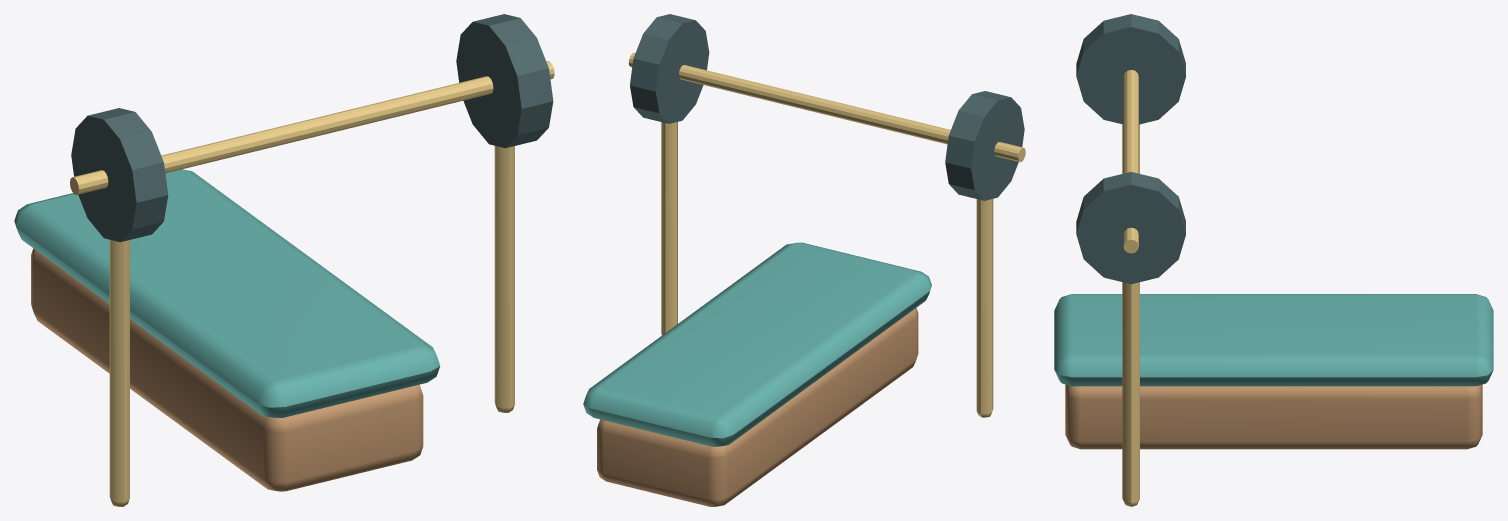
Rendered from weight-bench.glb.
3 views of the same model, side by side, from view 1: azimuth 30°, elevation 25°; view 2: azimuth 150°, elevation 25°; view 3: azimuth 270°, elevation 25° (orthographic). The views are drawn at different scales.
Parts seen in each view (by area): view 1: Bench pad, Bench base, Weight plate, Weight plate.001, Barbell, Rack.001, Rack; view 2: Bench pad, Bench base, Weight plate, Weight plate.001, Barbell, Rack, Rack.001; view 3: Bench pad, Bench base, Weight plate.001, Weight plate, Rack.001, Barbell.
Boxes of the visible parts, x1,y1,x2,y2 form: Bench pad: (14, 169, 440, 418); Bench base: (31, 248, 423, 491); Weight plate: (71, 108, 168, 242); Weight plate.001: (456, 14, 553, 148); Barbell: (70, 61, 554, 194); Rack.001: (494, 146, 514, 412); Rack: (109, 240, 129, 506); Bench pad: (583, 242, 931, 446); Bench base: (597, 308, 918, 506); Weight plate: (945, 91, 1024, 200); Weight plate.001: (630, 14, 709, 123); Barbell: (628, 52, 1025, 161); Rack: (976, 199, 993, 417); Rack.001: (661, 122, 677, 335); Bench pad: (1054, 294, 1493, 386); Bench base: (1065, 384, 1482, 449); Weight plate.001: (1076, 172, 1185, 284); Weight plate: (1076, 14, 1185, 124); Rack.001: (1122, 282, 1139, 506); Barbell: (1123, 70, 1138, 253).
Size of the model in its own units: 2.1 by 1.65 by 2.
